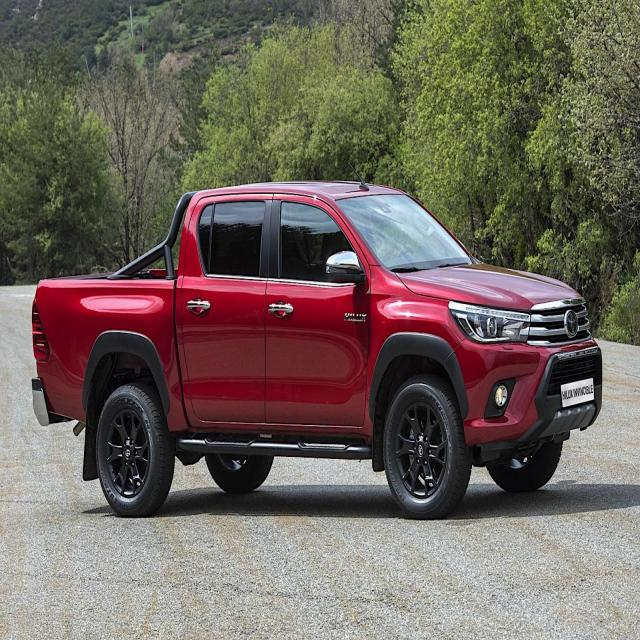CMT: (25, 179, 607, 522)
